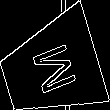M_W: (24, 39, 78, 98)
